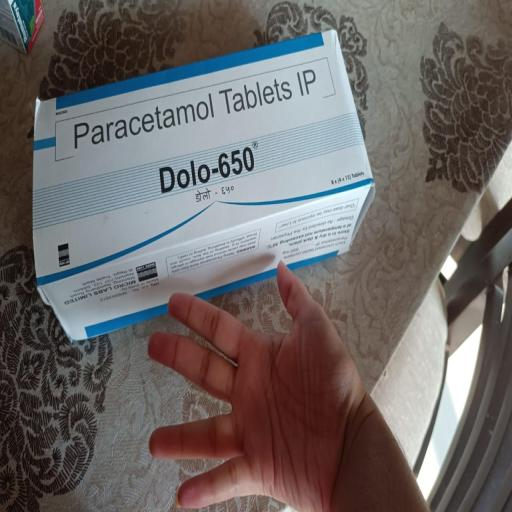dolo-650: (29, 19, 393, 306)
